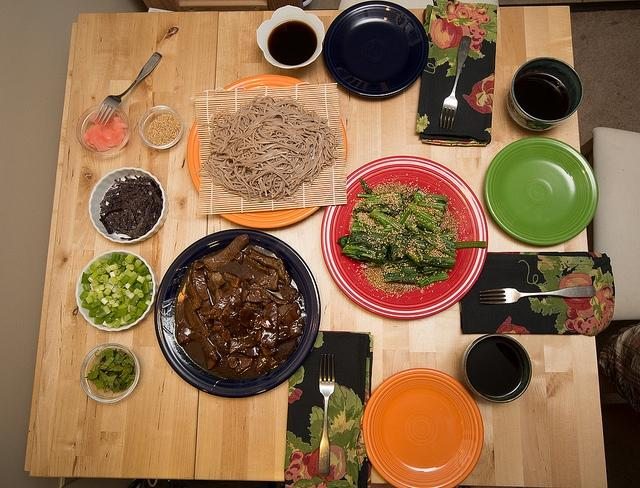onion: (96, 306, 106, 319), (128, 272, 138, 284), (124, 268, 134, 278), (117, 308, 128, 317), (108, 278, 118, 287), (105, 283, 114, 291), (103, 288, 112, 296), (103, 306, 111, 314), (118, 258, 126, 266), (124, 296, 130, 304), (130, 306, 138, 312), (110, 264, 118, 270), (129, 286, 135, 292), (106, 295, 113, 300), (95, 288, 100, 294), (88, 276, 92, 282), (112, 288, 116, 293), (115, 307, 118, 310)
